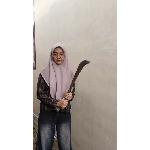Golok: (57, 57, 92, 115)
